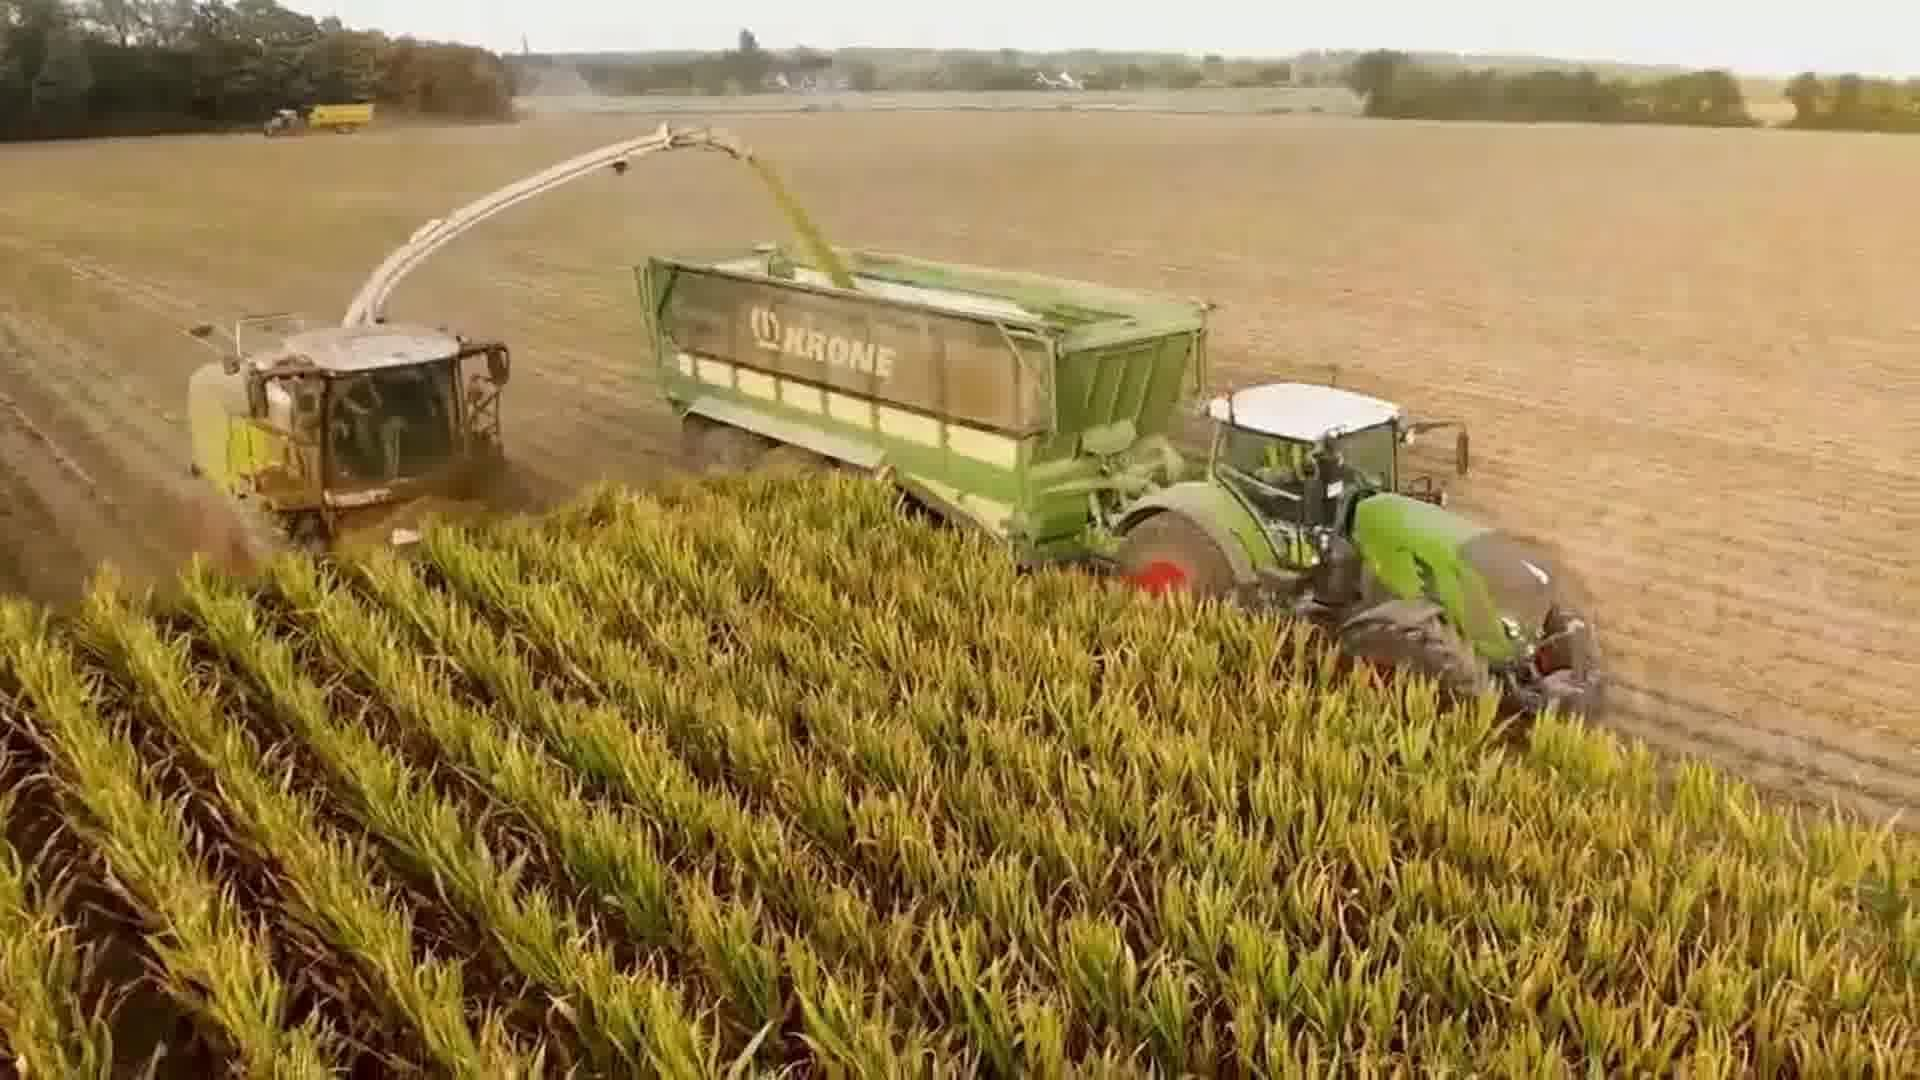combine harvester: (175, 119, 757, 579)
tractor: (1101, 368, 1613, 749), (261, 103, 305, 141)
trailer: (621, 218, 1218, 596), (307, 99, 378, 137)
